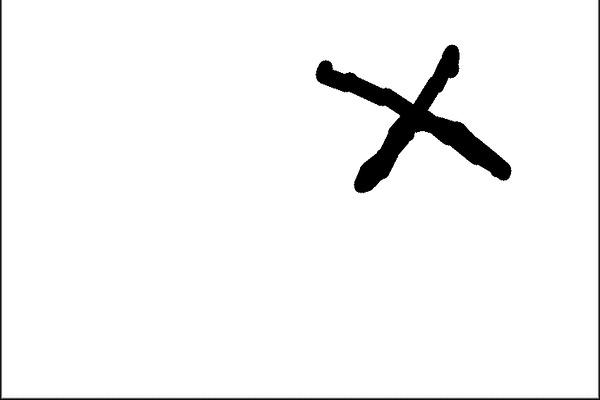X: (293, 37, 521, 204)
